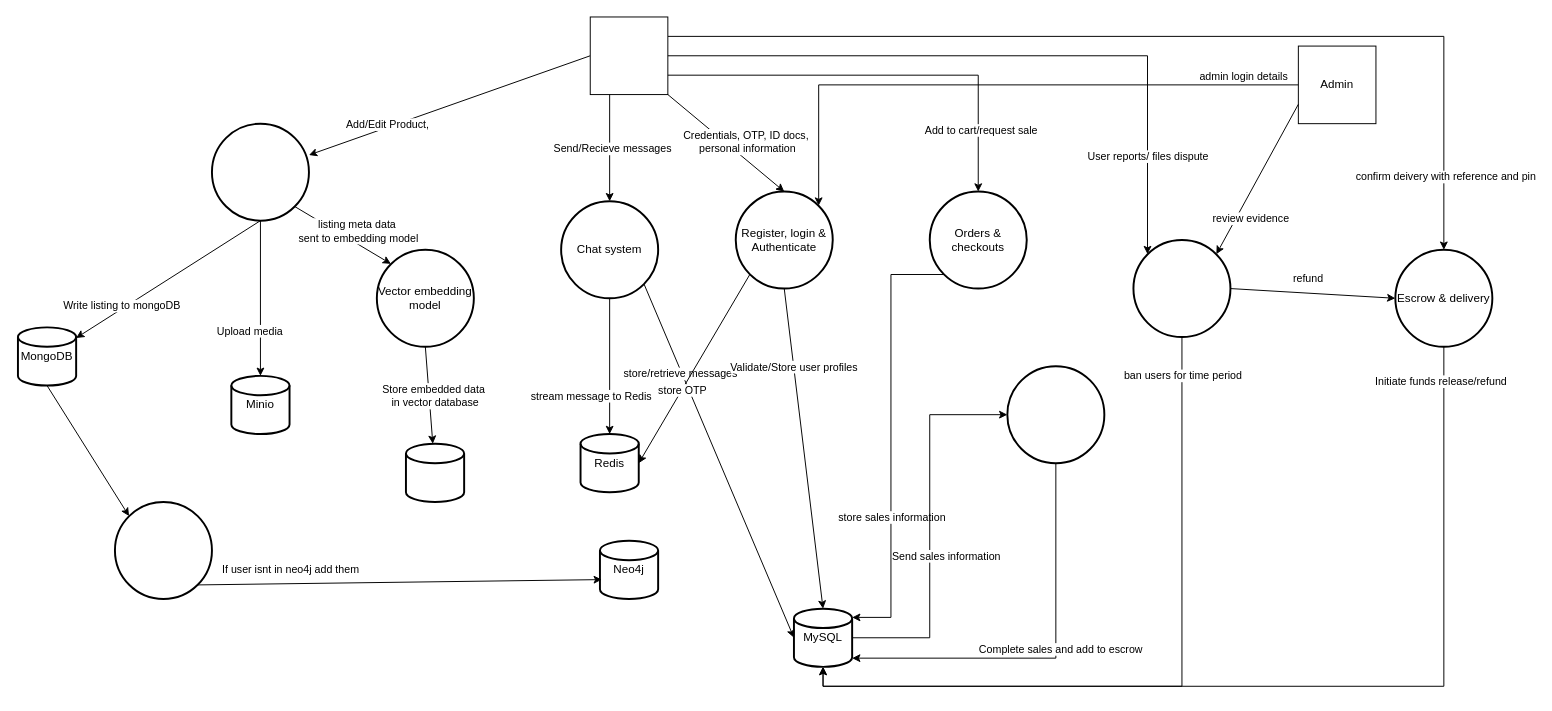
Some shapes in this 1552 by 711 pixel diagram are drawn without their labels. Each missing label, with the centre of its shape:
"graph service" belongs at pixel 162 550.
"Listing service" belongs at pixel 259 171.
"Moderation & disputes" belongs at pixel 1181 288.
"Payment gateway" belongs at pixel 1055 414.
"QDrant" belongs at pixel 434 472.
"User" belongs at pixel 628 55.
